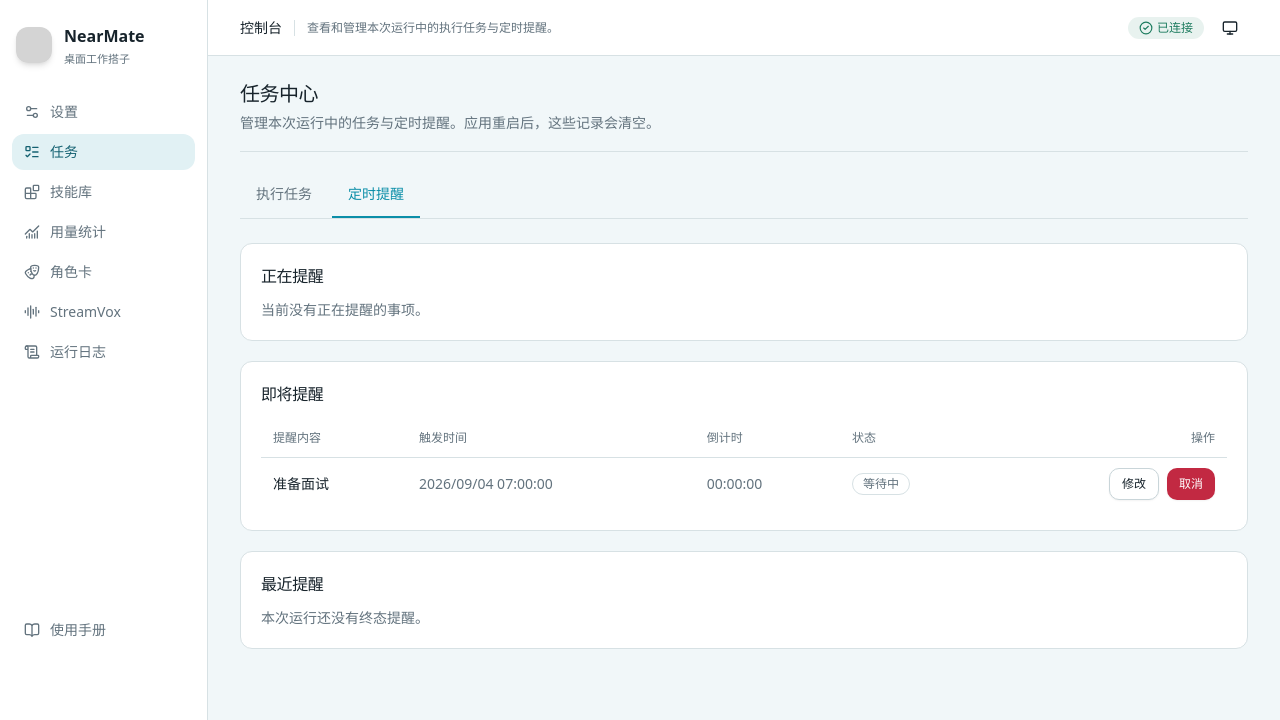
Test: console timed reminders › 旧运行期取消请求的迟到失败不能污染新运行期
Click the button "取消": (1191, 484) [1167,468,1215,500]
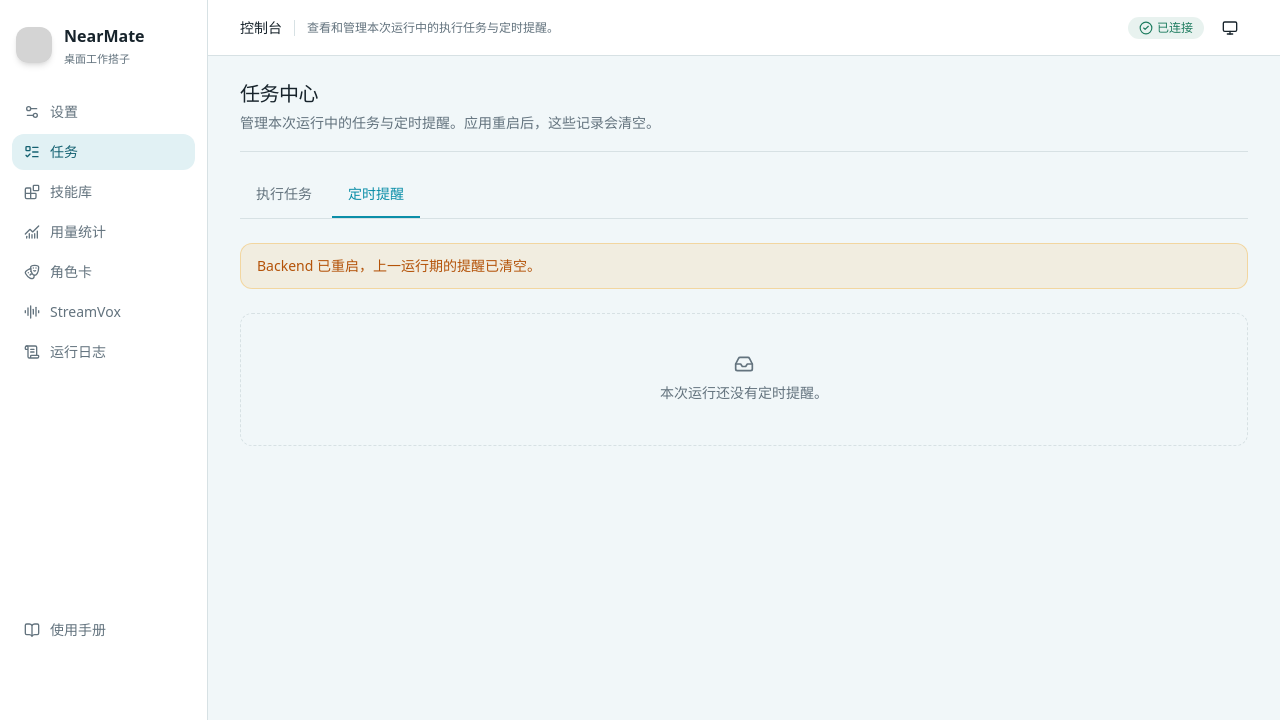
Expected: the text "本次运行还没有定时提醒。" is shown, [660,382,828,405]
